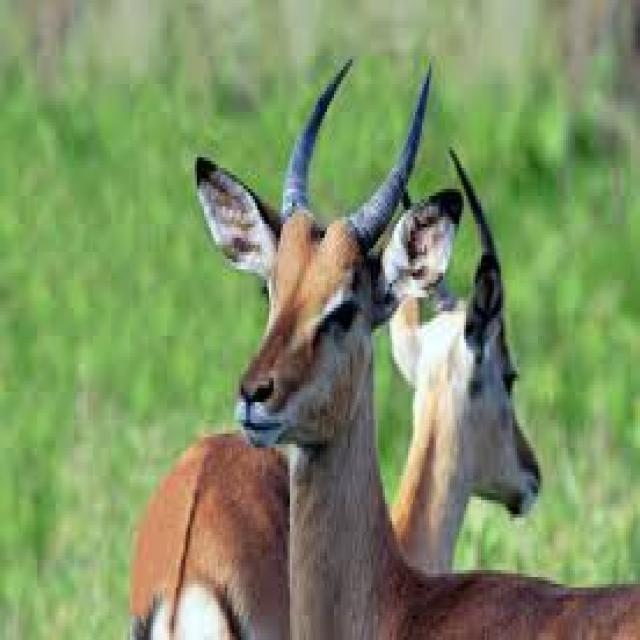Antelope: (187, 51, 640, 640), (127, 140, 549, 640), (552, 381, 554, 382)
